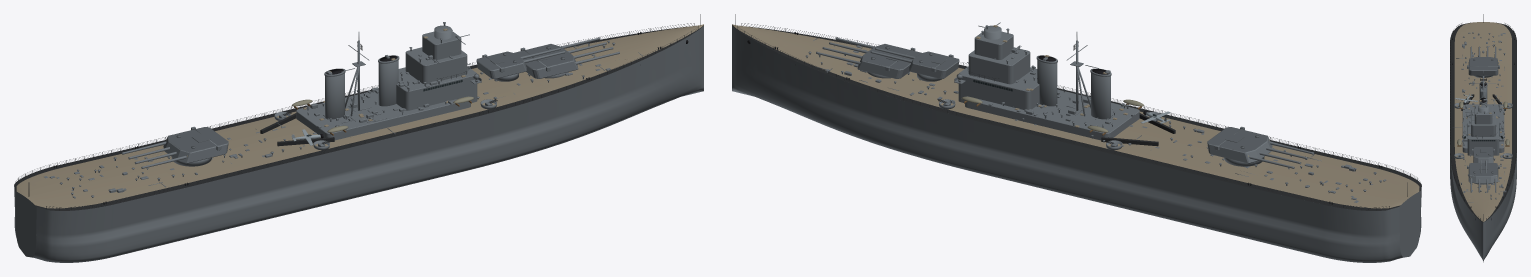
Rendered from kgv.glb.
The picture shows the model from 3 angles, left to right: view 1: azimuth 30°, elevation 25°; view 2: azimuth 150°, elevation 25°; view 3: azimuth 270°, elevation 25°; orthographic projection. The views are drawn at different scales.
Visible parts, largest first — view 1: kgv, T_2_malla, T_0_malla, T_1_malla, C_2, C_0; view 2: kgv, T_2_malla, T_0_malla, T_1_malla, C_2, C_0; view 3: kgv, T_0_malla, T_2_malla, T_1_malla, C_0, C_2, C_1.
Part boxes in pixels (x1=…): kgv: x1=14, y1=14, x2=703, y2=262; T_2_malla: x1=163, y1=126, x2=228, y2=163; T_0_malla: x1=514, y1=44, x2=578, y2=78; T_1_malla: x1=476, y1=51, x2=526, y2=78; C_2: x1=121, y1=140, x2=187, y2=168; C_0: x1=561, y1=37, x2=619, y2=64; kgv: x1=732, y1=14, x2=1421, y2=262; T_2_malla: x1=1207, y1=126, x2=1272, y2=163; T_0_malla: x1=857, y1=44, x2=921, y2=78; T_1_malla: x1=909, y1=51, x2=959, y2=78; C_2: x1=1248, y1=140, x2=1314, y2=168; C_0: x1=816, y1=37, x2=874, y2=64; kgv: x1=1450, y1=14, x2=1516, y2=262; T_0_malla: x1=1467, y1=163, x2=1499, y2=183; T_2_malla: x1=1467, y1=57, x2=1499, y2=75; T_1_malla: x1=1472, y1=147, x2=1494, y2=162; C_0: x1=1470, y1=177, x2=1496, y2=192; C_2: x1=1470, y1=46, x2=1496, y2=57; C_1: x1=1480, y1=160, x2=1486, y2=174.
Size of the model in its own units: 227 by 46 by 31.4.
